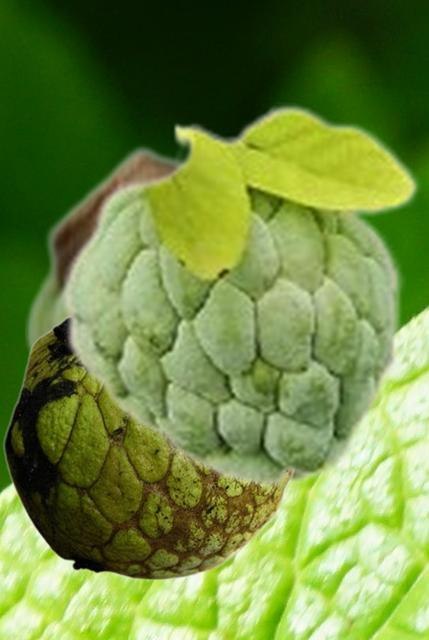atis: (58, 102, 420, 489), (25, 143, 309, 490), (2, 318, 292, 580)
